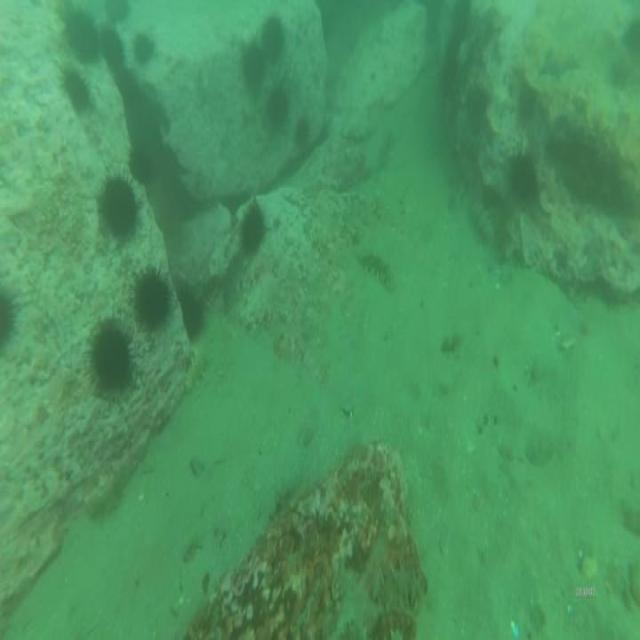echinus: (84, 314, 142, 404), (130, 262, 180, 340), (94, 163, 140, 242), (235, 191, 271, 266), (506, 142, 540, 210), (175, 272, 207, 343), (62, 8, 100, 65), (62, 68, 98, 114), (256, 14, 289, 63), (238, 42, 270, 92), (0, 284, 23, 350), (124, 139, 152, 187), (263, 82, 292, 126), (132, 30, 159, 68), (101, 0, 127, 28), (294, 112, 310, 150)
holothurian: (372, 561, 427, 618), (359, 250, 396, 294)
starfish: (542, 44, 582, 82)
